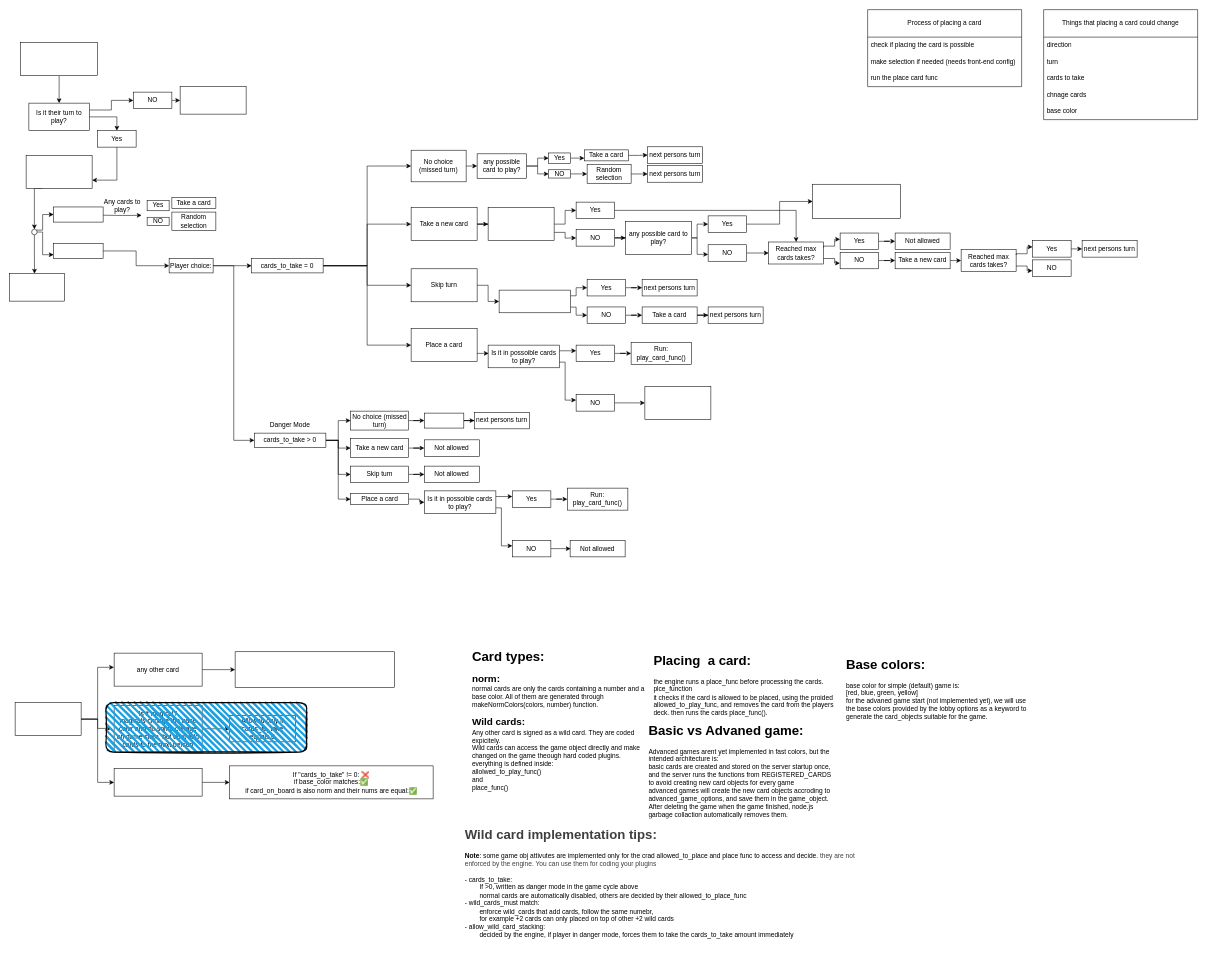
This 1207x967 diagram has some shape labels left out. Here are the shapes that lost their labels. From the top down, the centre of each, then its label:
At point 59,59: "Running a game cycle".
At point 213,100: "Action not allowed: pls wait for your turn".
At point 59,171: "Calc all possble cards to plsy".
At point 78,214: "Type: BOT".
At point 856,201: "Not allowed to take a new card: You have cards in your deck allowed to play".
At point 521,224: "allowed to skip move?".
At point 78,250: "Type: player".
At point 37,287: "emit game to all frontends (If successfull)".
At point 535,301: "Took atleast one card?".
At point 444,420: "Take cards".
At point 677,402: "Error: Card not allowed to be played".
At point 315,669: "direct access to game obj, and uses allowed_to_play func".
At point 48,719: "Is Card allowed to be played?".
At point 158,782: "Is it norm card? just a number and a color".
